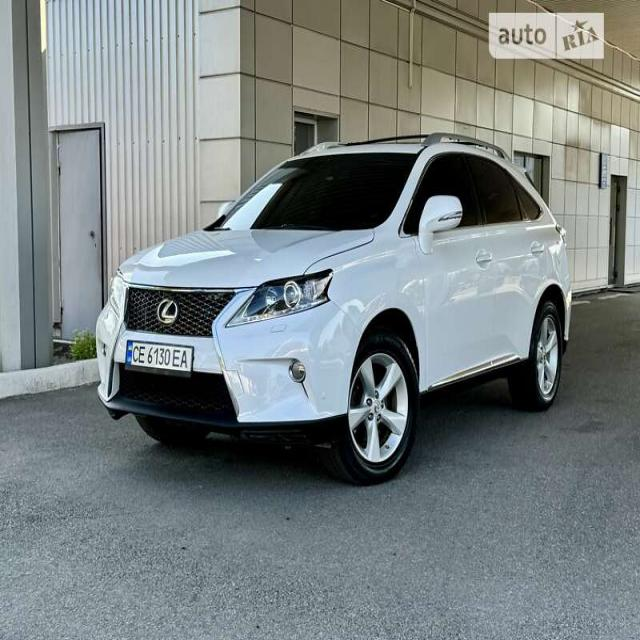plate: (122, 332, 195, 392)
